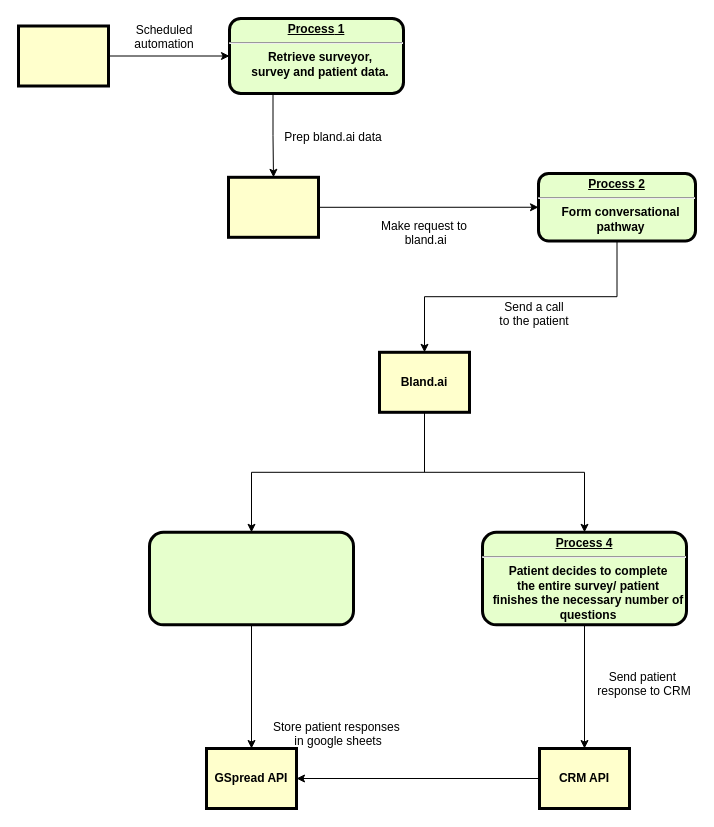
Image size: 714x827. Some labels were removed from this diagram. The centre of each missing label's shape, as x and y in pixels:
"Make.com" goes at pixel 63 55.
"Our API: /sendCall endpoint" goes at pixel 273 206.
"Process 3 Patient ends the call early" goes at pixel 251 578.
